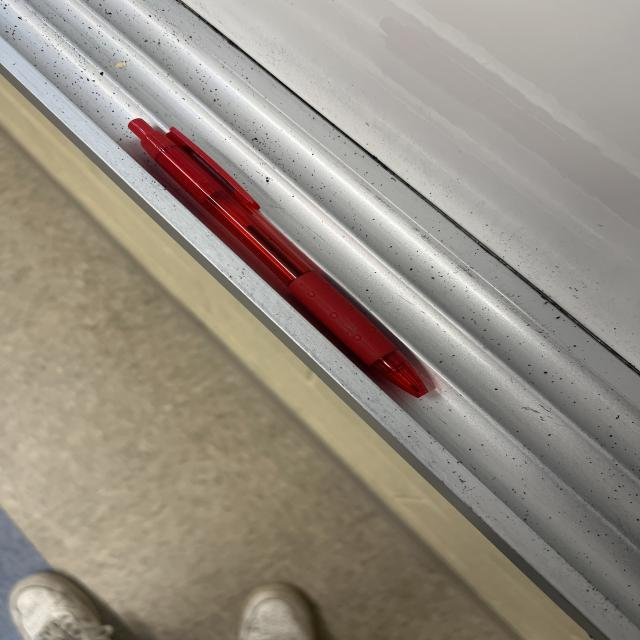pen: (127, 117, 429, 399)
